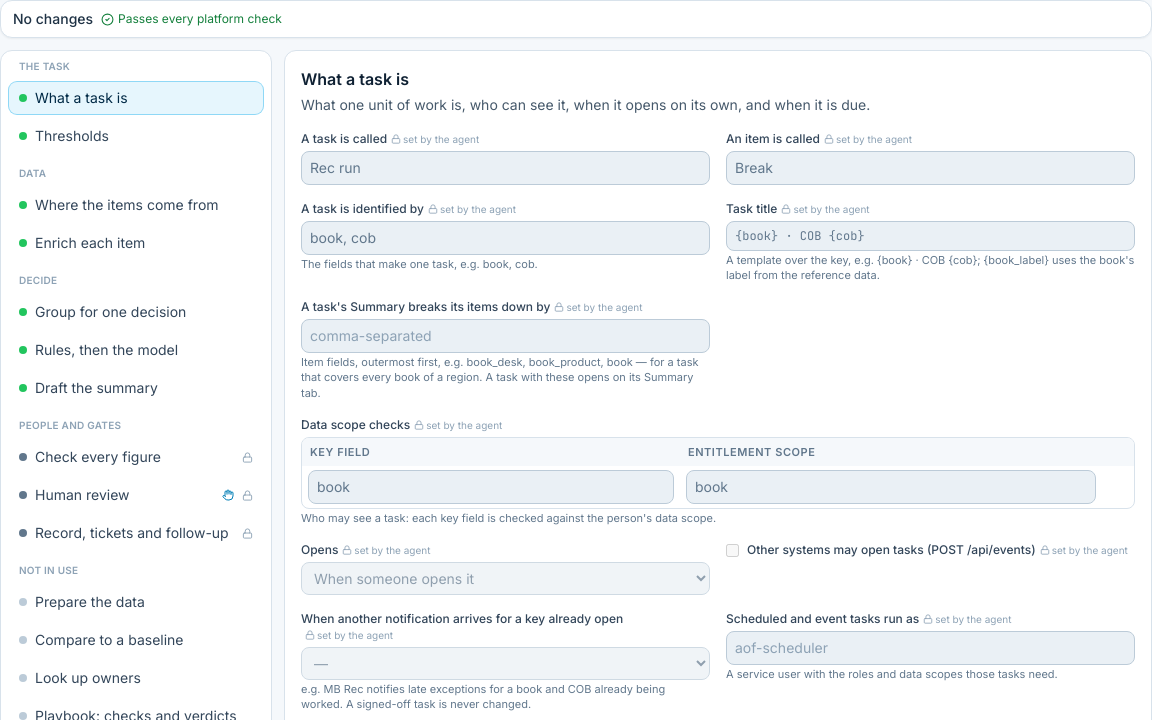
Test case: Orchestrator editor › lets a group owner change only what the group may set, checked as they go, as a draft
The width and height of the screenshot is (1152, 720).
Expected: the text "Passes every platform check" is shown, [101,11,282,27]
# the workflow is the agent's: its steps cannot be switched by a group
Click the button "Enrich each item" at (136, 243), box [9,227,263,259]
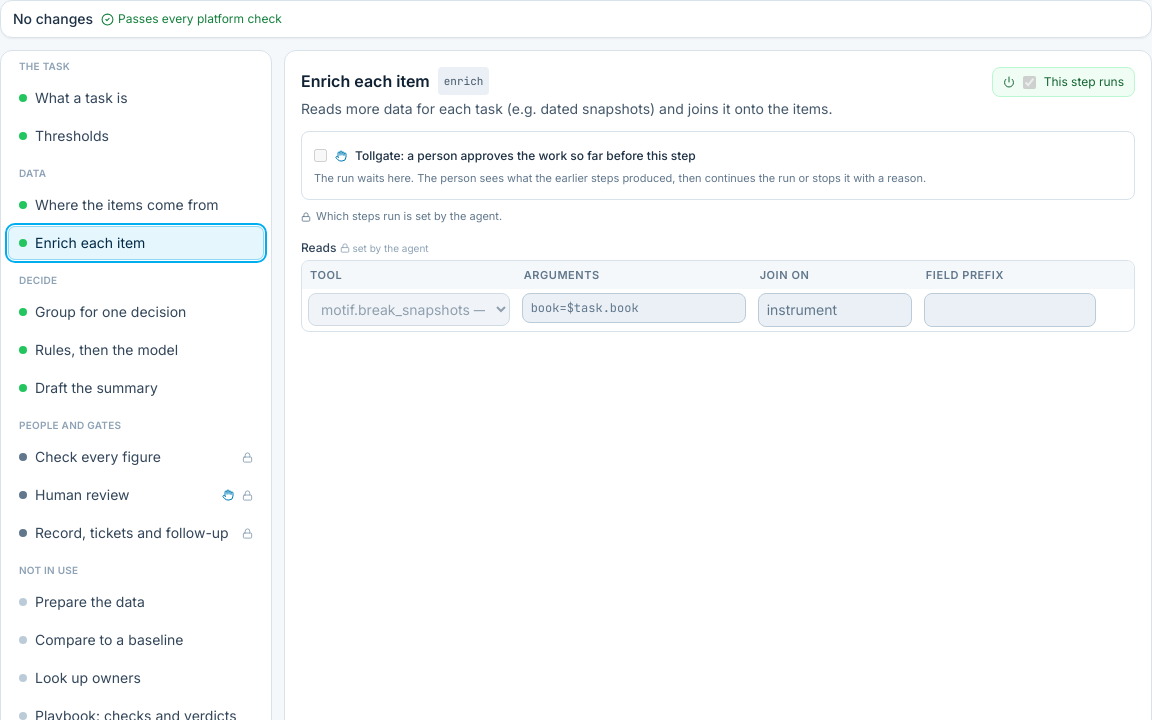
Expected: the checkbox labelled "This step runs" is disabled, [1023,76,1036,88]
# a threshold is the group's to set
Click the button "Thresholds" at (136, 136), box [9,120,263,152]
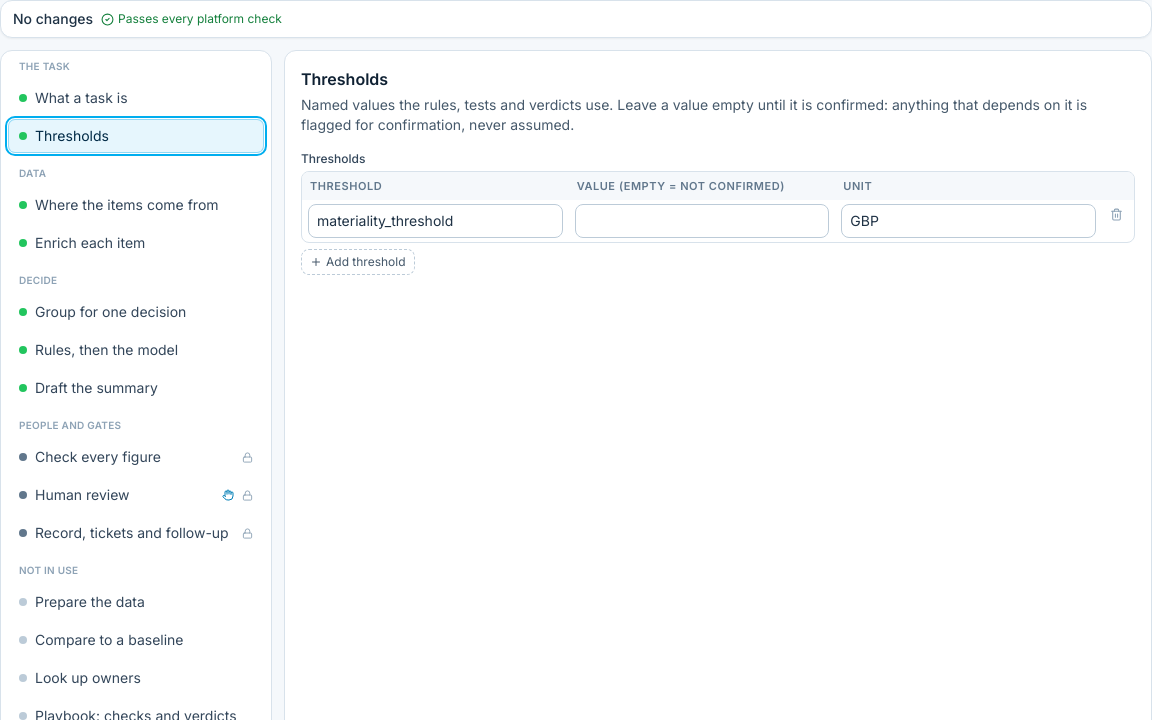
Type "250000" into the field named "Value" at (702, 221), box [575,204,829,238]
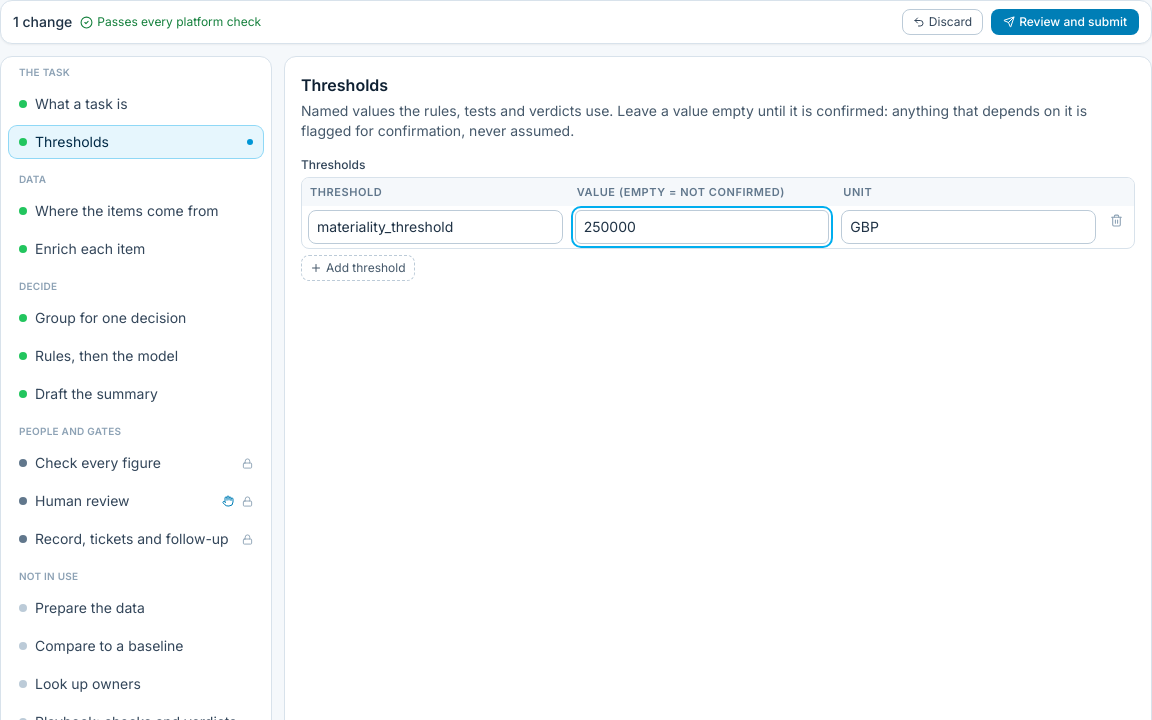
Expected: the text "Passes every platform check" is shown, [80,14,261,30]
Now the text "1 change" is shown, box [13,12,72,32]
Click the button "Review and submit" at (1065, 22), box [991,9,1139,35]
(page scrolled)
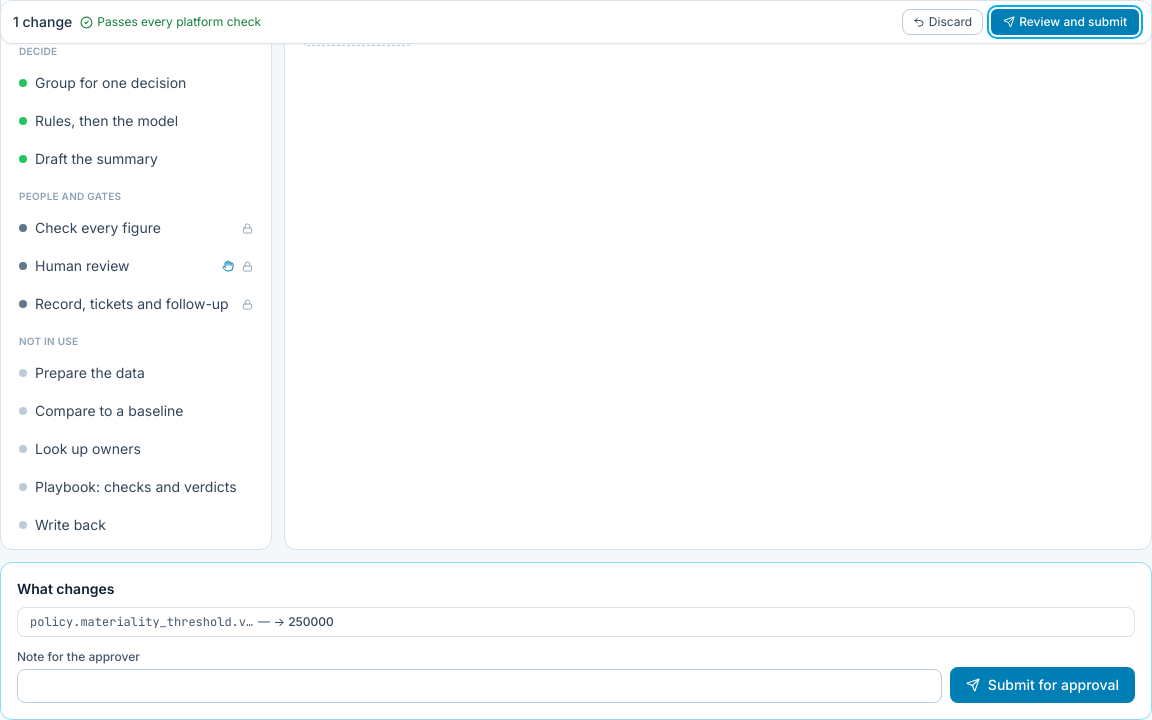
Now the text "policy.materiality_threshold.value" is shown, box [30,614,254,630]
Click the button "Submit for approval" at (1042, 685), box [950,667,1135,703]
(page scrolled)
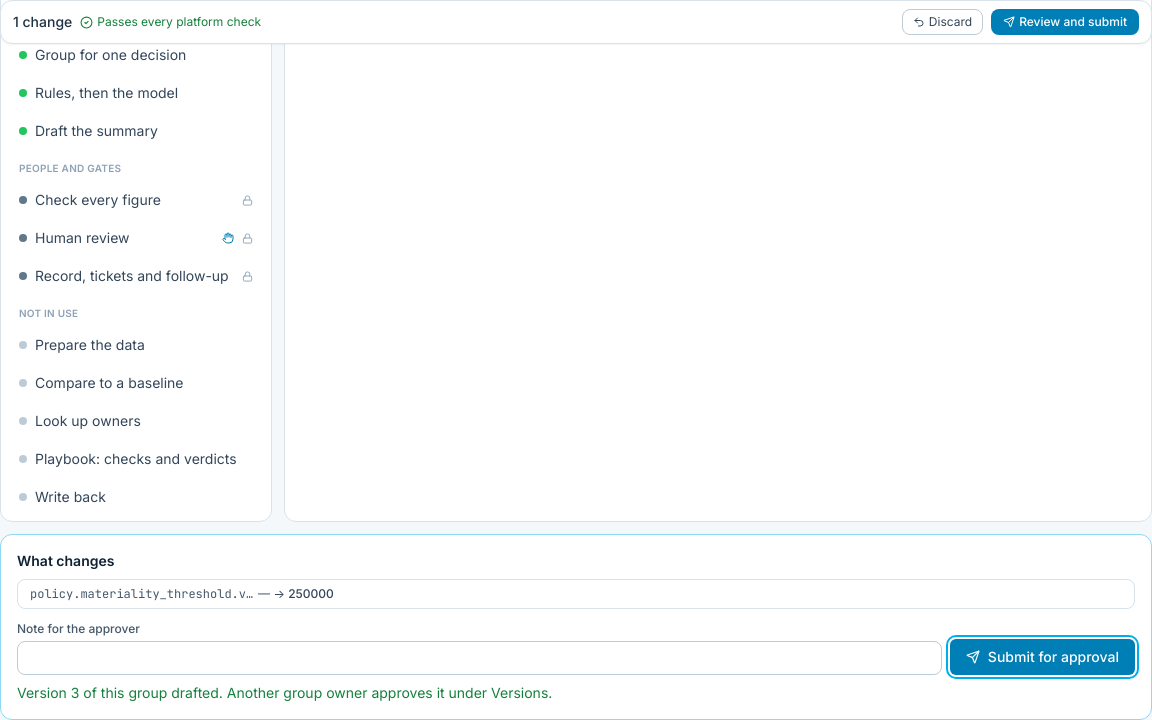
Now the text "Version 3 of this group drafted" is shown, box [17,684,552,701]
